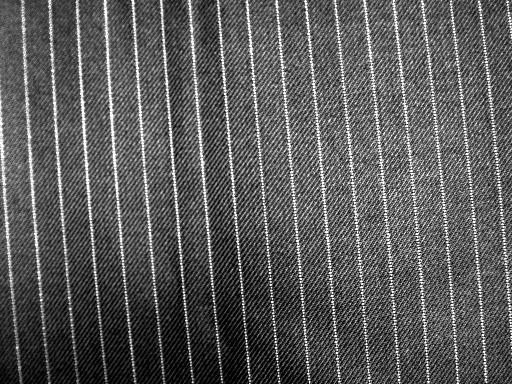fabric_perfect: (3, 1, 511, 381)
